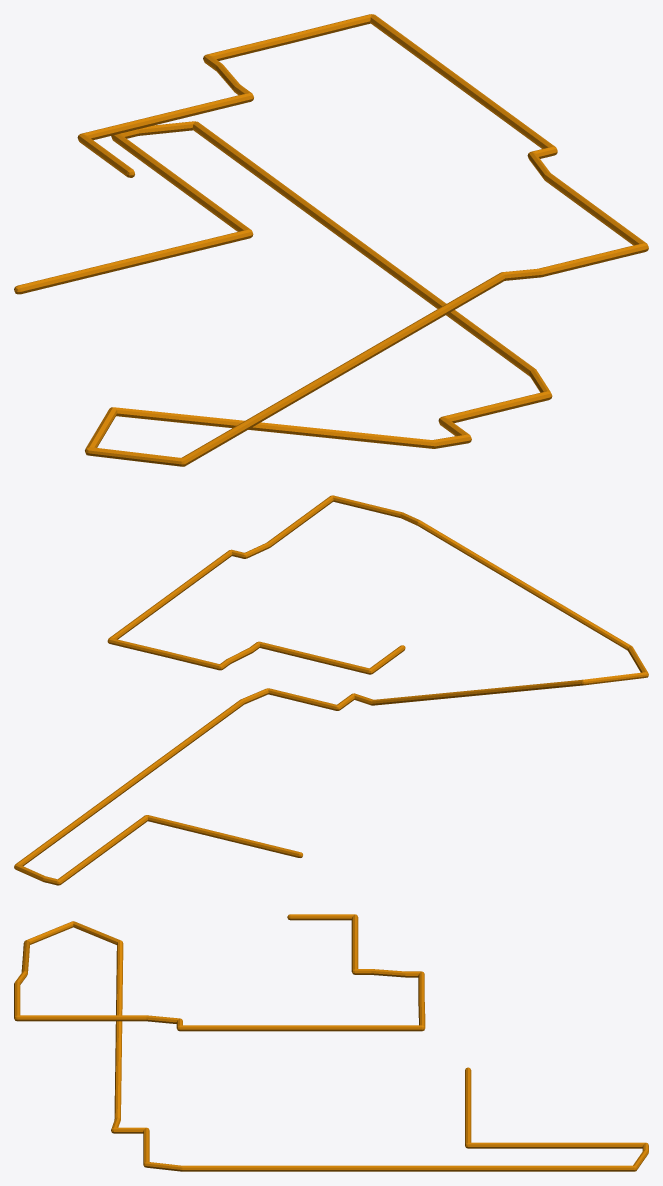
3 views of the same model, one above another, from view 1: azimuth 30°, elevation 25°; view 2: azimuth 150°, elevation 25°; view 3: azimuth 270°, elevation 25° (orthographic). The views are drawn at different scales.
Size of the model in its own units: 1319 by 520 by 1966.
